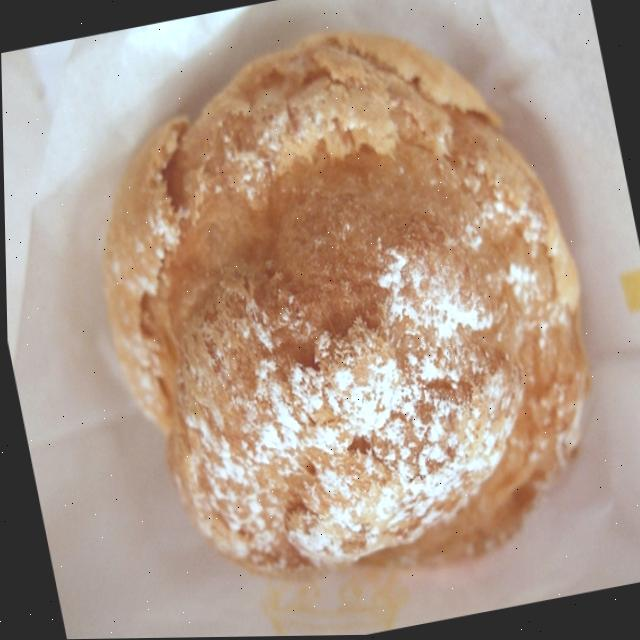炸货点心: (61, 0, 621, 628)
蛋糕甜品: (61, 0, 621, 628)
